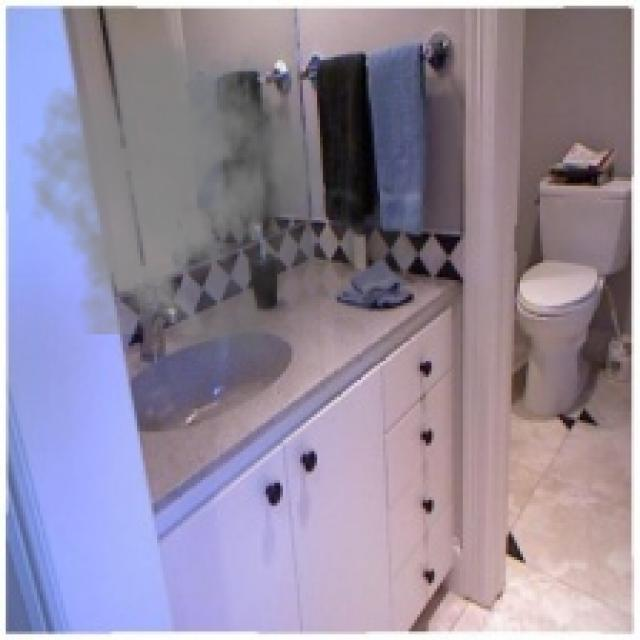Smoke: (19, 17, 432, 377)
